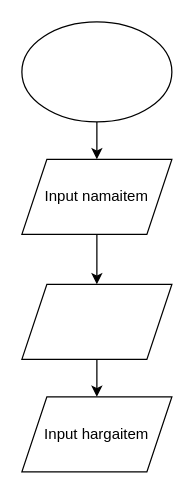
The diagram is 194 pixels wide and 494 high, and some of its shapes have lost their labels. Each missing label, with the centre of its shape:
Input jumlahItem: (x=96, y=321)
START: (x=96, y=71)
